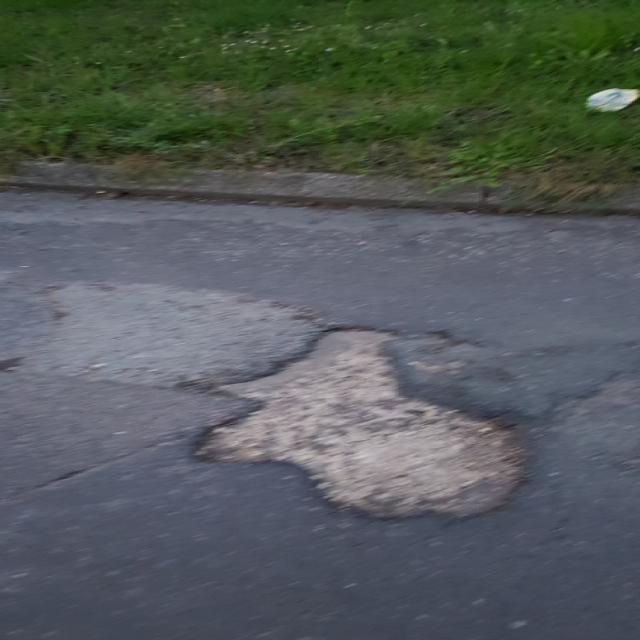pothole: (176, 320, 548, 522)
